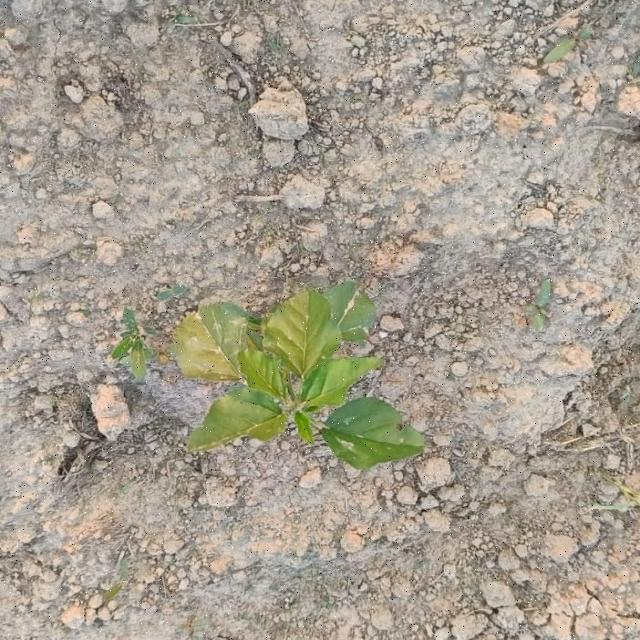weed: (172, 283, 425, 470), (110, 310, 152, 378)
